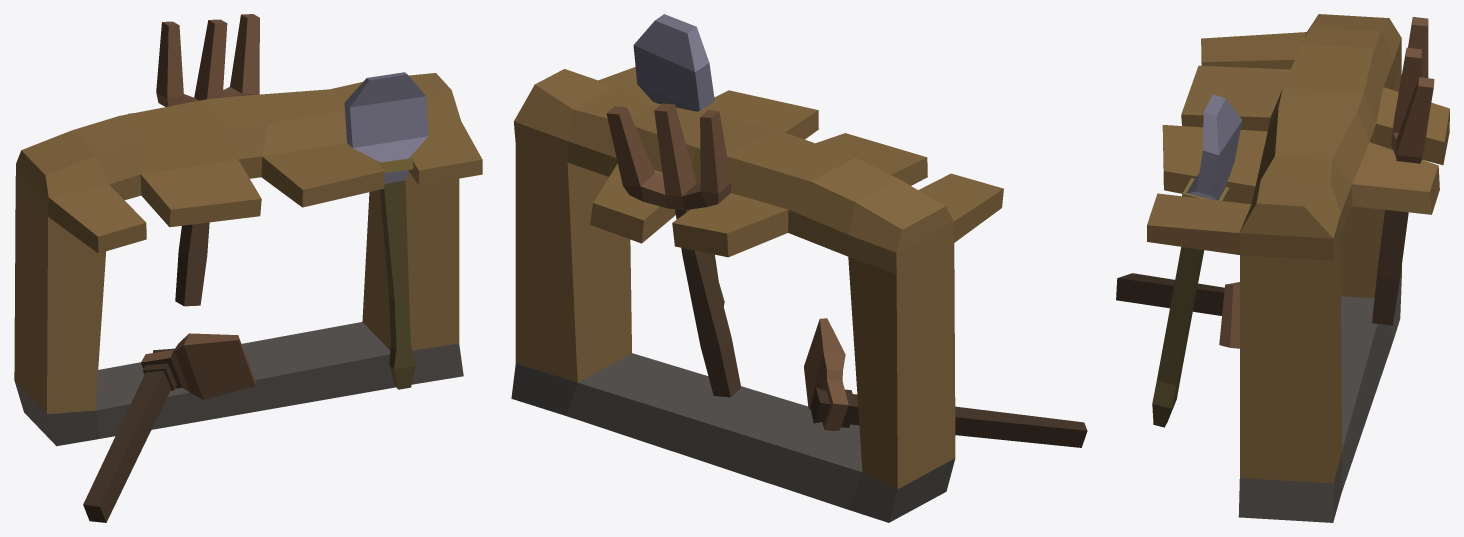
The model's file is N_FarmToolRack.fbx.
3 renders of one model, left to right at view 1: azimuth 30°, elevation 25°; view 2: azimuth 150°, elevation 25°; view 3: azimuth 270°, elevation 25°, orthographic. The views are drawn at different scales.
Visible parts, largest first — view 1: FarmToolRack; view 2: FarmToolRack; view 3: FarmToolRack.
Boxes of the visible parts, x1,y1,x2,y2 form: FarmToolRack: (14,14,482,522); FarmToolRack: (511,14,1087,522); FarmToolRack: (1116,14,1449,522).
Bounding box in the file's own units: 100 × 77.01 × 59.69.
